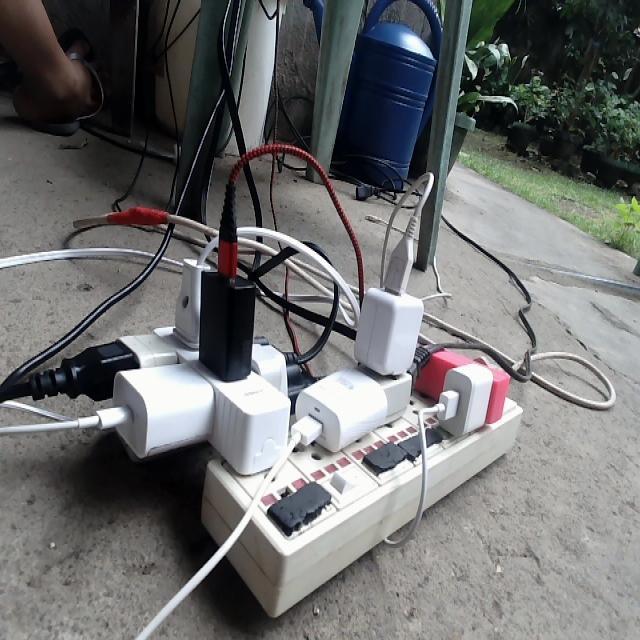-: (27, 168, 522, 617)
